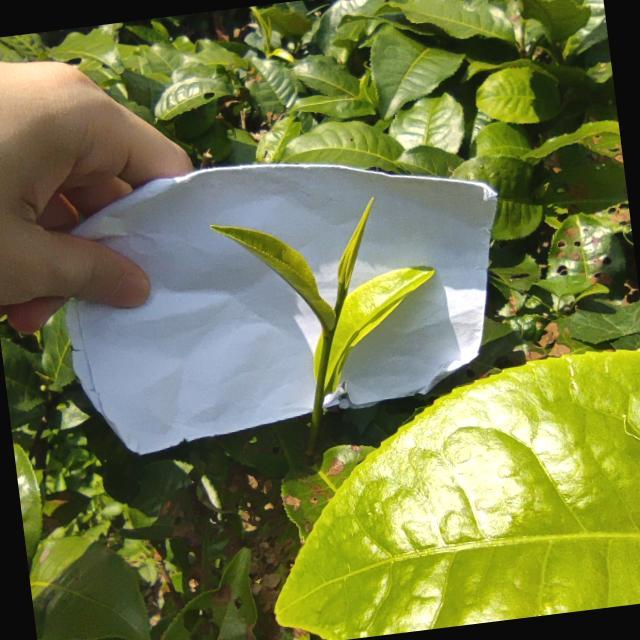Stem: (323, 333, 333, 344)
